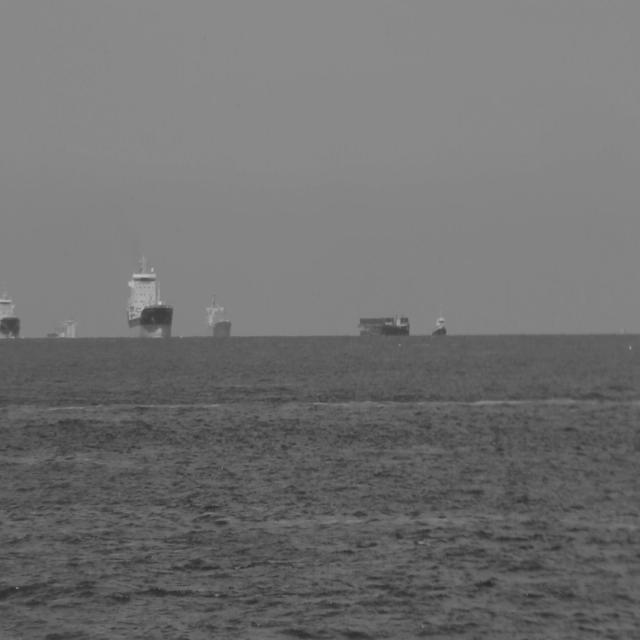ship: (124, 254, 174, 342), (349, 309, 417, 344), (43, 315, 87, 351), (200, 292, 232, 340), (1, 292, 22, 340), (425, 312, 455, 344)
